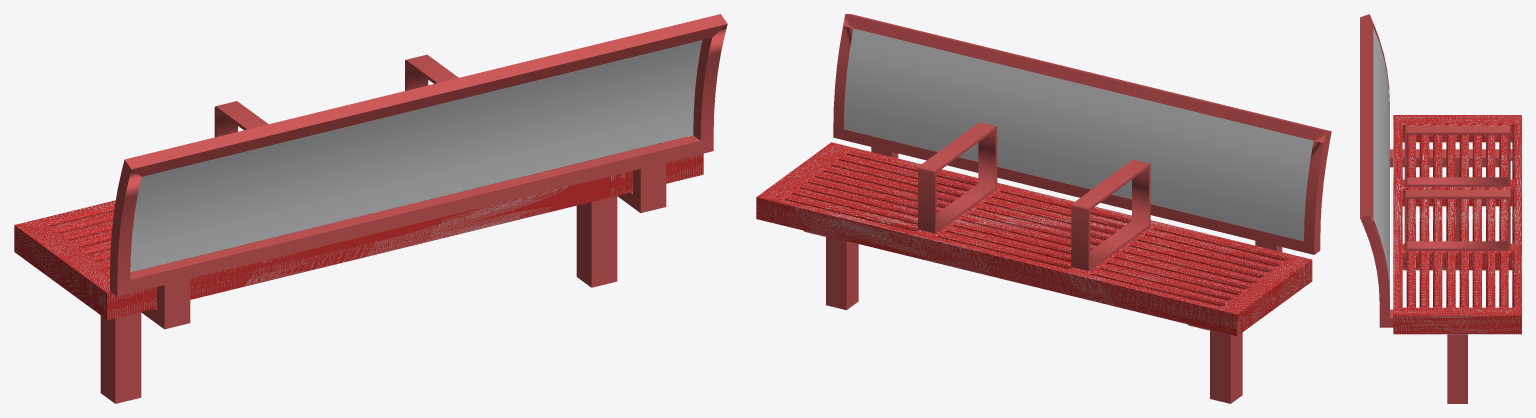
3 renders of one model, left to right at view 1: azimuth 30°, elevation 25°; view 2: azimuth 150°, elevation 25°; view 3: azimuth 270°, elevation 25°, orthographic. The views are drawn at different scales.
Parts seen in each view (by area): view 1: mesh15_mesh15-geometry, mesh13_mesh13-geometry, mesh3_mesh3-geometry, mesh1_mesh1-geometry, mesh16_mesh16-geometry, mesh11_mesh11-geometry, mesh4_mesh4-geometry, mesh9_mesh9-geometry; view 2: mesh15_mesh15-geometry, mesh3_mesh3-geometry, mesh13_mesh13-geometry, mesh4_mesh4-geometry, mesh1_mesh1-geometry, mesh11_mesh11-geometry, mesh9_mesh9-geometry; view 3: mesh3_mesh3-geometry, mesh4_mesh4-geometry, mesh15_mesh15-geometry, mesh13_mesh13-geometry, mesh1_mesh1-geometry, mesh9_mesh9-geometry, mesh16_mesh16-geometry.
Part boxes in pixels (<box>): mesh15_mesh15-geometry: <box>130,40,702,272</box>; mesh13_mesh13-geometry: <box>117,14,727,296</box>; mesh3_mesh3-geometry: <box>14,136,703,319</box>; mesh1_mesh1-geometry: <box>100,196,617,403</box>; mesh16_mesh16-geometry: <box>141,163,666,329</box>; mesh11_mesh11-geometry: <box>110,160,141,296</box>; mesh4_mesh4-geometry: <box>214,54,502,234</box>; mesh9_mesh9-geometry: <box>693,24,727,150</box>; mesh15_mesh15-geometry: <box>843,28,1313,241</box>; mesh3_mesh3-geometry: <box>756,142,1312,336</box>; mesh13_mesh13-geometry: <box>834,14,1330,254</box>; mesh4_mesh4-geometry: <box>918,122,1150,271</box>; mesh1_mesh1-geometry: <box>826,236,1242,403</box>; mesh11_mesh11-geometry: <box>1304,131,1331,254</box>; mesh9_mesh9-geometry: <box>833,14,853,137</box>; mesh3_mesh3-geometry: <box>1393,115,1521,334</box>; mesh4_mesh4-geometry: <box>1404,125,1510,250</box>; mesh15_mesh15-geometry: <box>1373,27,1389,298</box>; mesh13_mesh13-geometry: <box>1360,14,1373,218</box>; mesh1_mesh1-geometry: <box>1447,167,1467,403</box>; mesh9_mesh9-geometry: <box>1360,215,1389,312</box>; mesh16_mesh16-geometry: <box>1379,149,1512,327</box>.
Bounding box in the file's own units: 0.863 × 0.411 × 0.2938.
